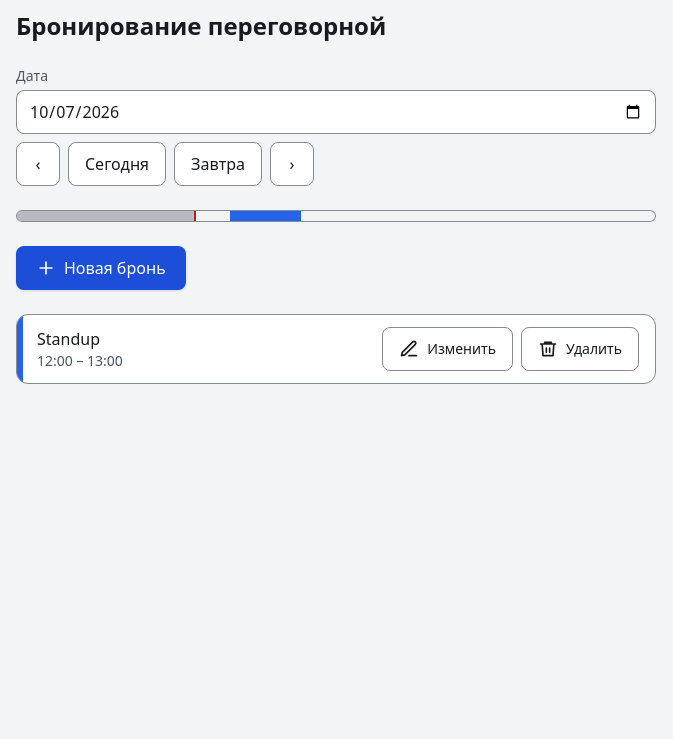
Test: design stage 1: form and confirm roles › create form: role=form with aria-label, labelled fields, no dialog anywhere
This screenshot has width=673, height=739.
Click the button "Новая бронь" at (101, 268), box top-left (16, 246), bottom-right (186, 290)
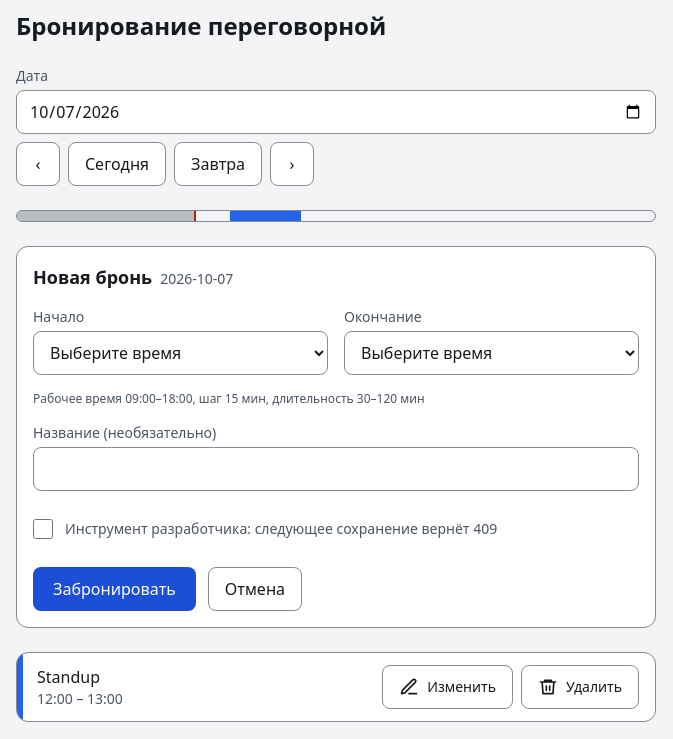
Result: the dropdown labelled "Начало" is shown at top-left (33, 331), bottom-right (328, 375)
Result: the dropdown labelled "Окончание" is shown at top-left (344, 331), bottom-right (639, 375)
Result: the field labelled "Название (необязательно)" is shown at top-left (33, 447), bottom-right (639, 491)
